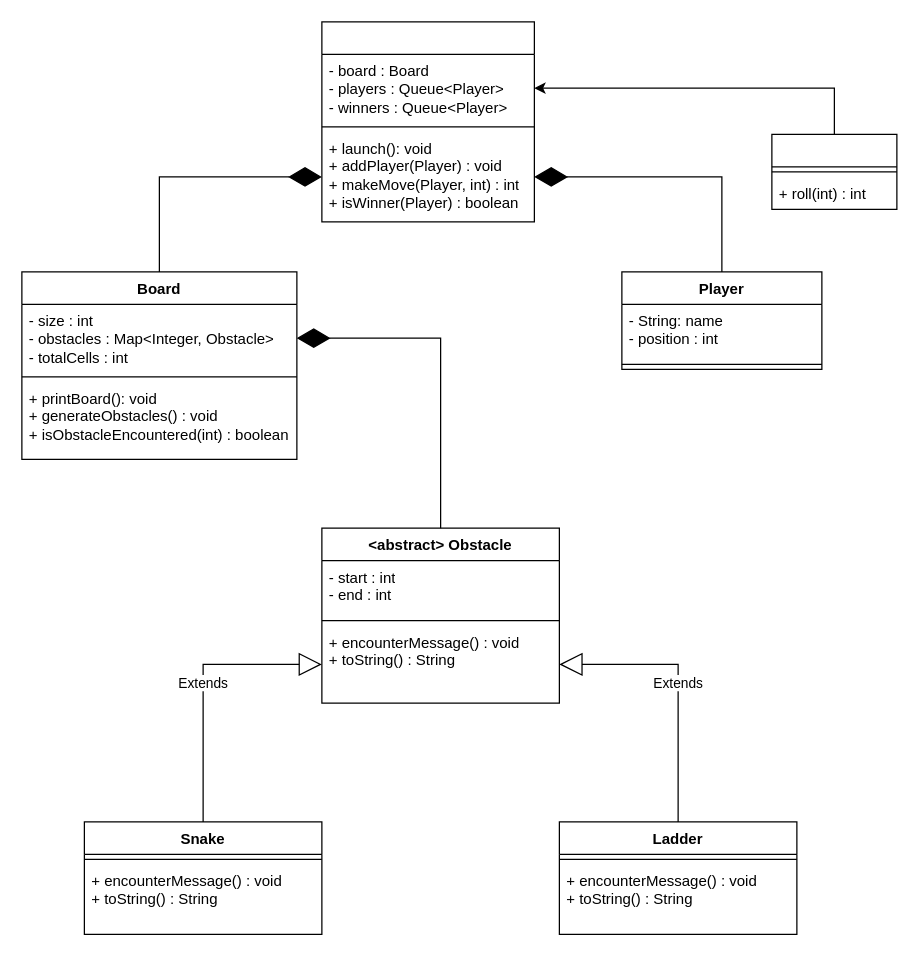
Some shapes in this 919 by 960 pixel diagram are drawn without their labels. Each missing label, with the box of its shape:
Dice: (771, 133, 897, 209)
Game: (321, 21, 534, 222)
